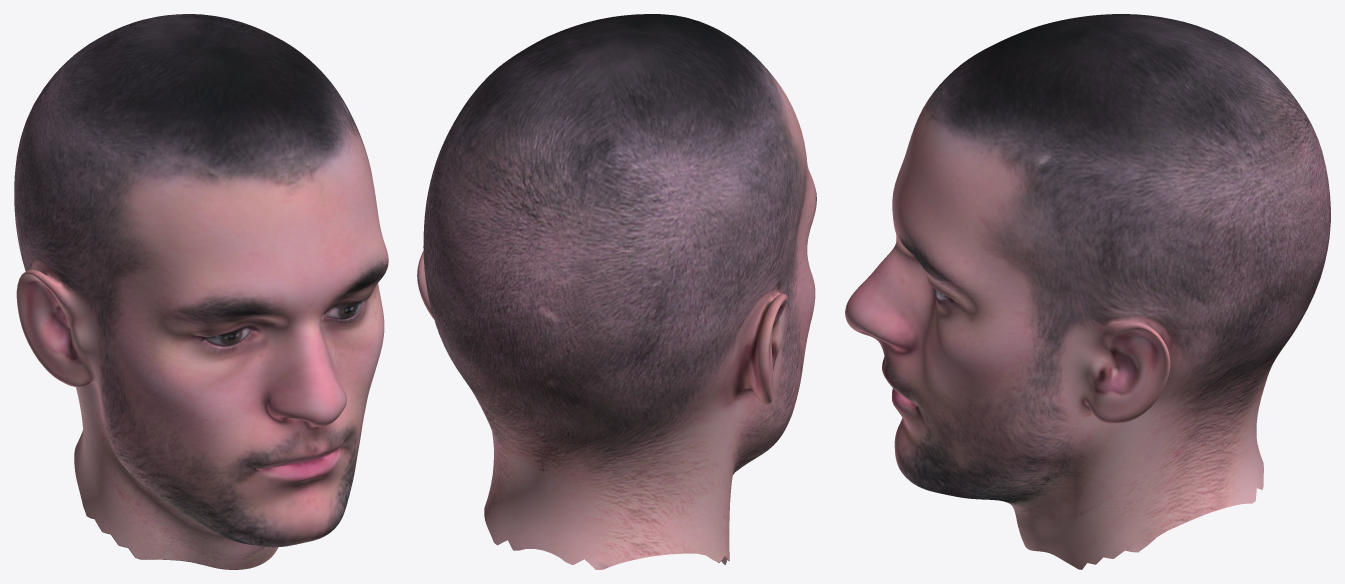
File: celestin.glb
3 views of the same model, side by side, from view 1: azimuth 30°, elevation 25°; view 2: azimuth 150°, elevation 25°; view 3: azimuth 270°, elevation 25° (orthographic). The views are drawn at different scales.
Visible parts, largest first — view 1: celehead; view 2: celehead; view 3: celehead.
Boxes of the visible parts, box(x1,y1,x2,y2) form: celehead: box(14, 14, 388, 569); celehead: box(417, 14, 816, 569); celehead: box(845, 14, 1330, 569).
Size of the model in its own units: 1.59 by 2.32 by 2.01.
Materials: 1 (1 with a texture image).
